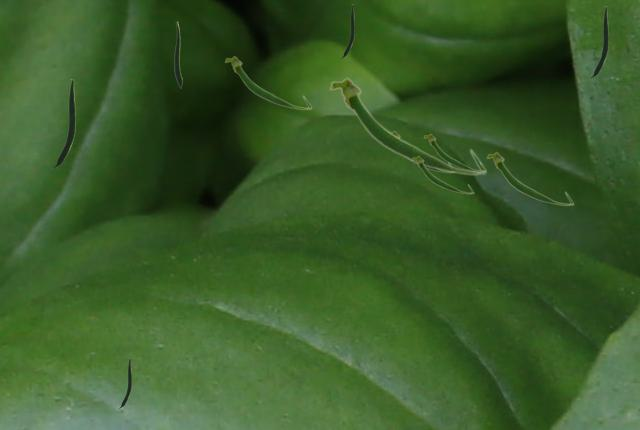french_bean: (328, 77, 486, 175), (224, 55, 311, 109), (486, 151, 573, 205), (411, 155, 473, 193), (423, 133, 485, 171), (392, 130, 445, 172), (52, 79, 74, 167), (590, 6, 607, 77), (341, 4, 353, 57), (119, 358, 130, 407), (174, 21, 181, 87)
